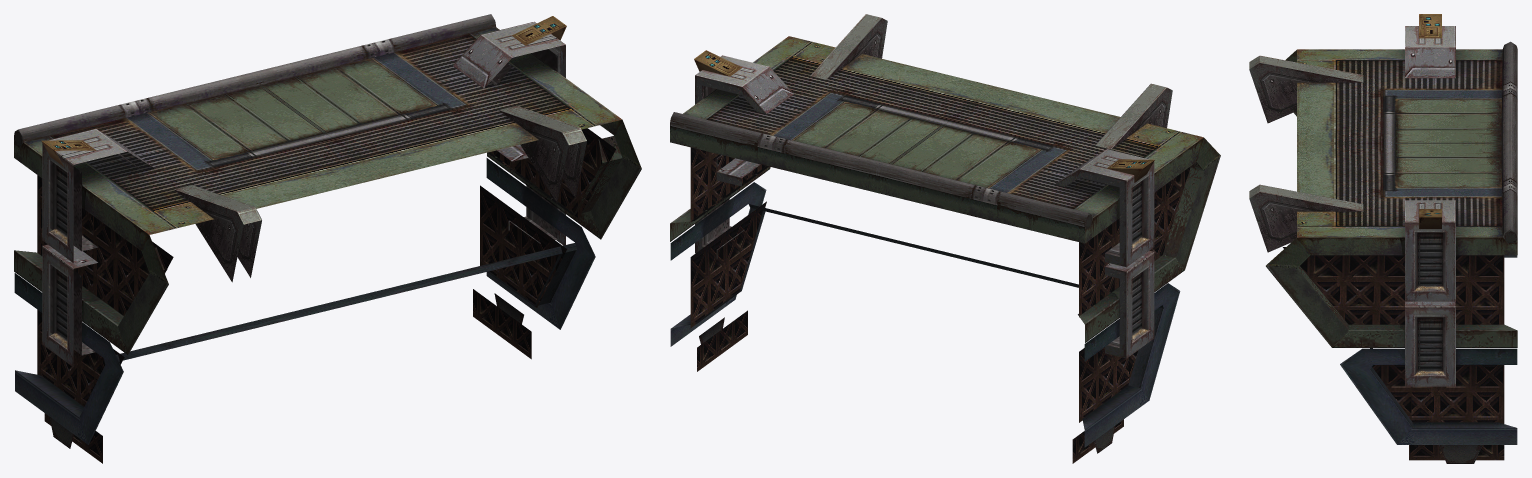
File: yw_yiwangfeixu_baobian03.FBX
3 views of the same model, side by side, from view 1: azimuth 30°, elevation 25°; view 2: azimuth 150°, elevation 25°; view 3: azimuth 270°, elevation 25° (orthographic). The views are drawn at different scales.
Parts seen in each view (by area): view 1: yw_yiwangfeixu_baobian03; view 2: yw_yiwangfeixu_baobian03; view 3: yw_yiwangfeixu_baobian03.
Boxes of the visible parts, x1,y1,x2,y2 form: yw_yiwangfeixu_baobian03: (14, 14, 641, 463); yw_yiwangfeixu_baobian03: (670, 14, 1220, 463); yw_yiwangfeixu_baobian03: (1249, 14, 1517, 463).
Size of the model in its own units: 484 by 288 by 270.
Materials: 1 (1 with a texture image).
